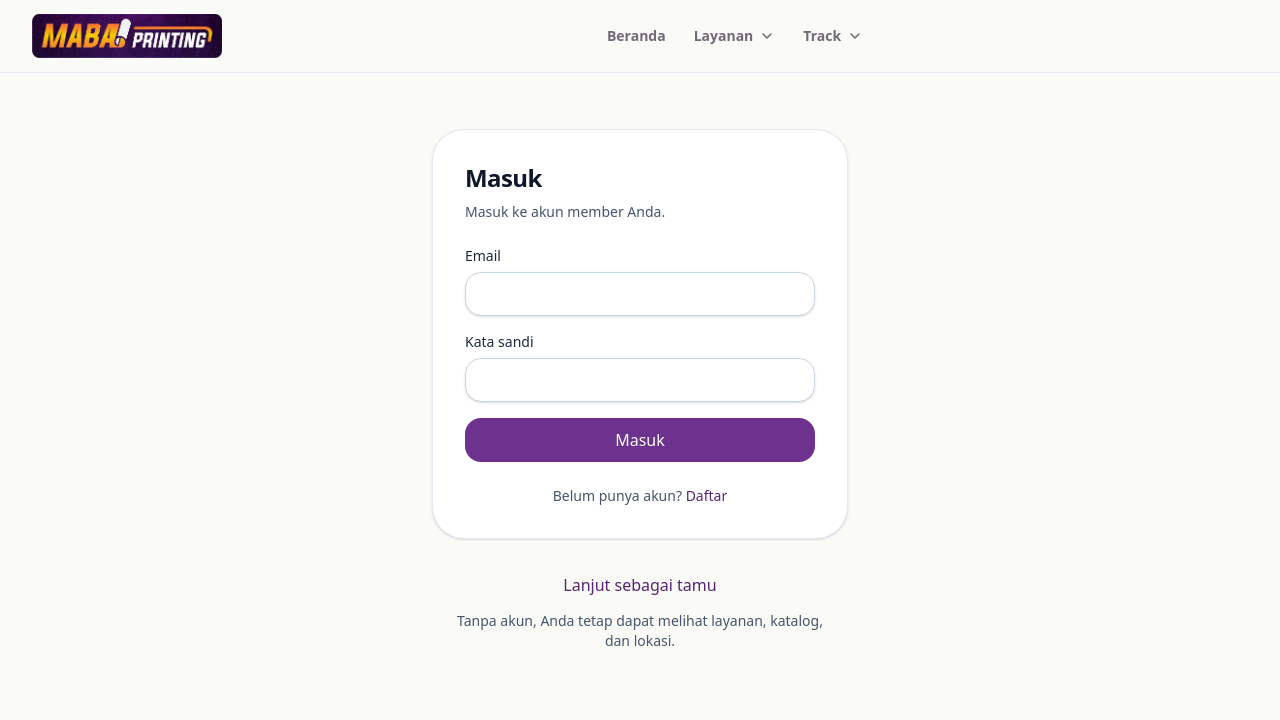
Login page › signs in with the CSRF token and opens the account
Expected: the heading "Masuk" is shown, [465,161,542,194]
In the field labelled "Email": (640, 294) [465,272,815,316], type "ana@example.test"
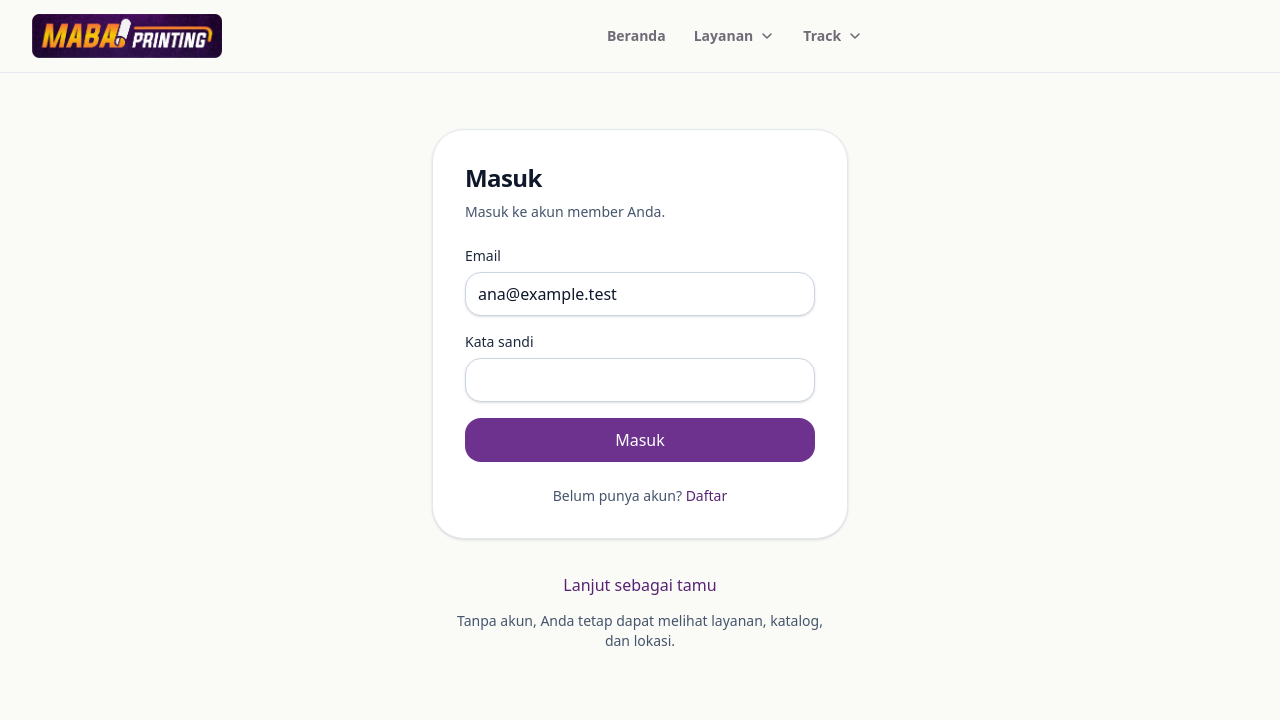
In the password field labelled "Kata sandi": (640, 380) [465,358,815,402], type "secret password"
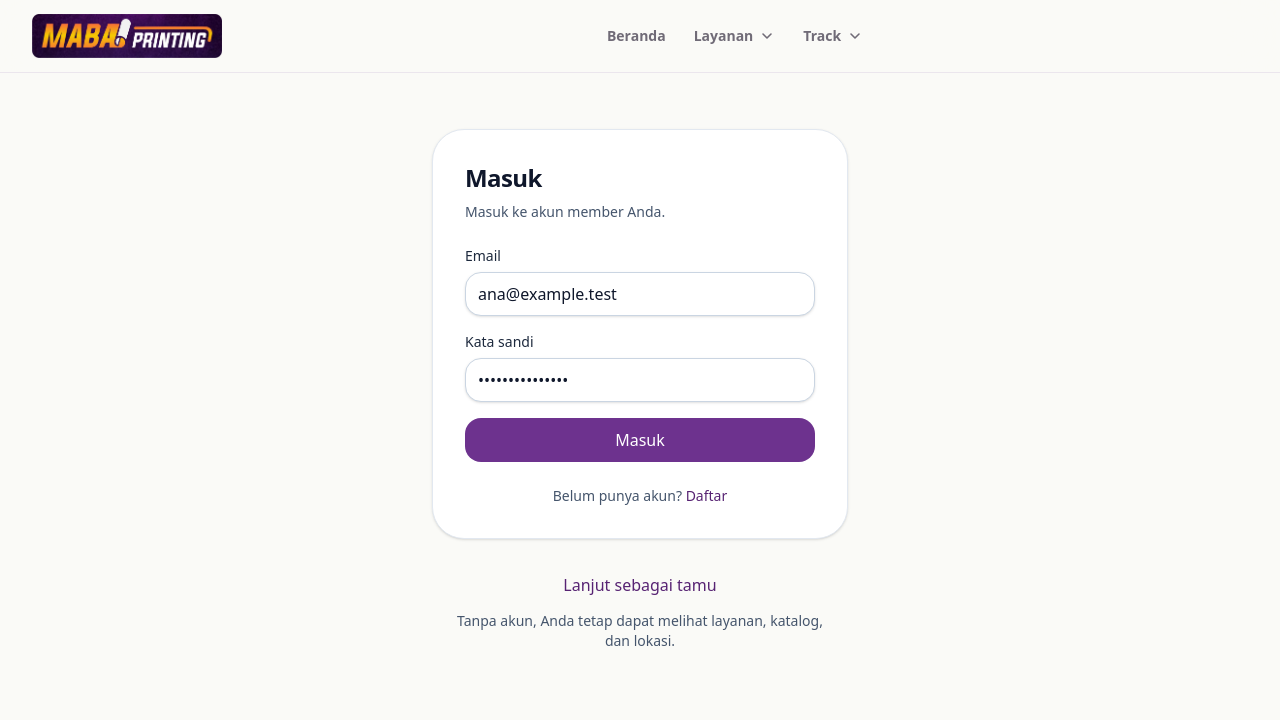
Click the button "Masuk": (640, 440) [465,418,815,462]
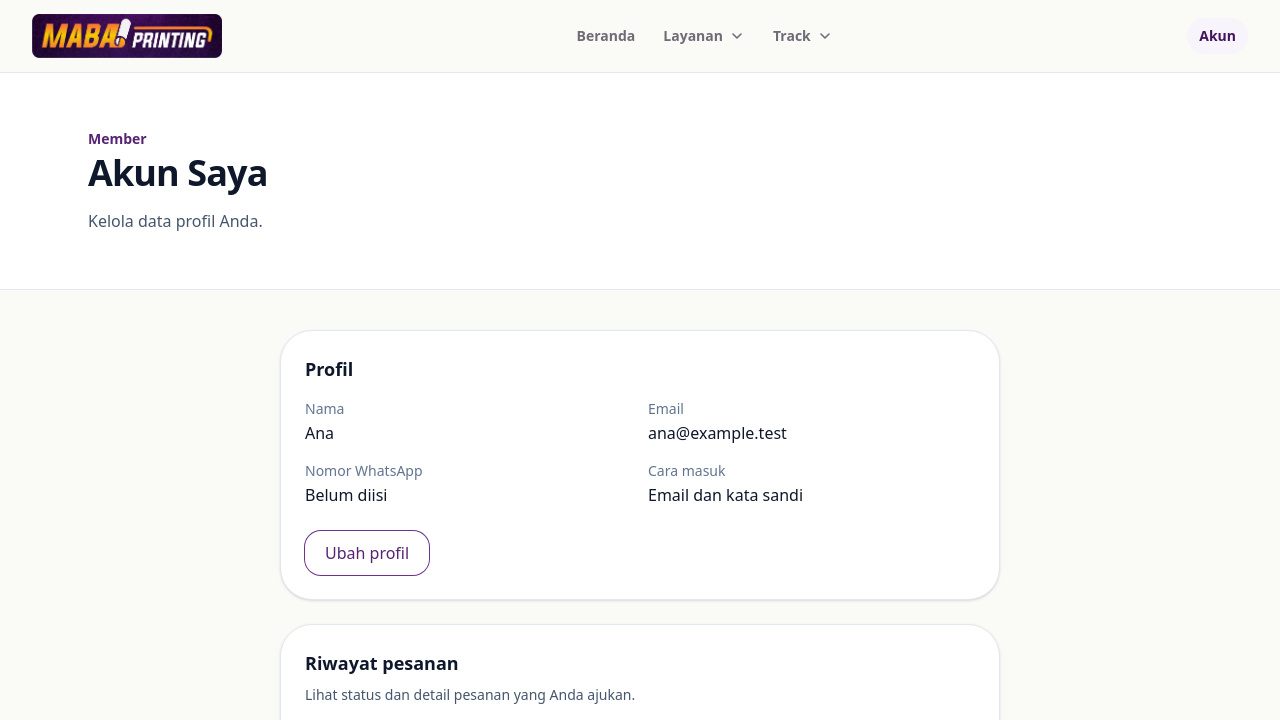
Now the heading "Akun Saya" is shown, box [88,148,268,197]
